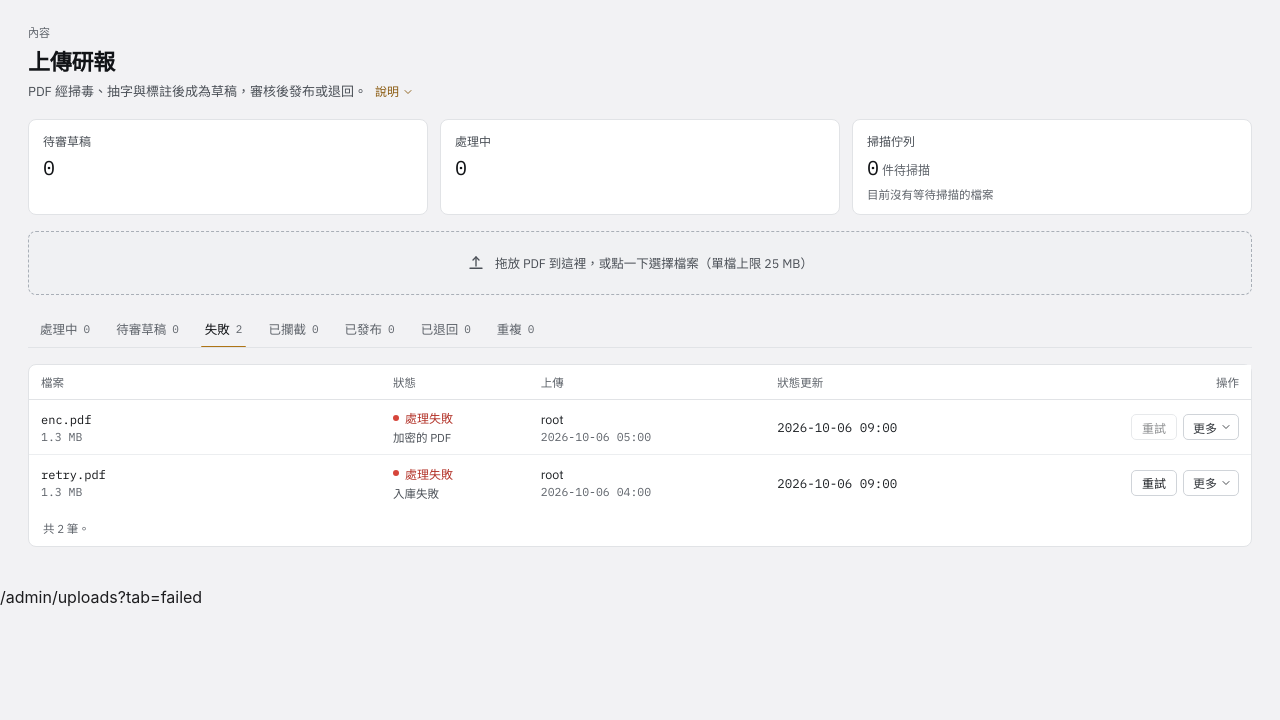
Test case: 失敗的列動作：可重試類主要動作是重試（要確認）；不可重試類停用並在 title 說明原因
expect the button "重試" in the row of "加密的 PDF" is disabled: met, box [1131,414,1177,440]
Click the button with aria-label "enc.pdf 的更多操作": [1211, 427] box [1183,414,1239,440]
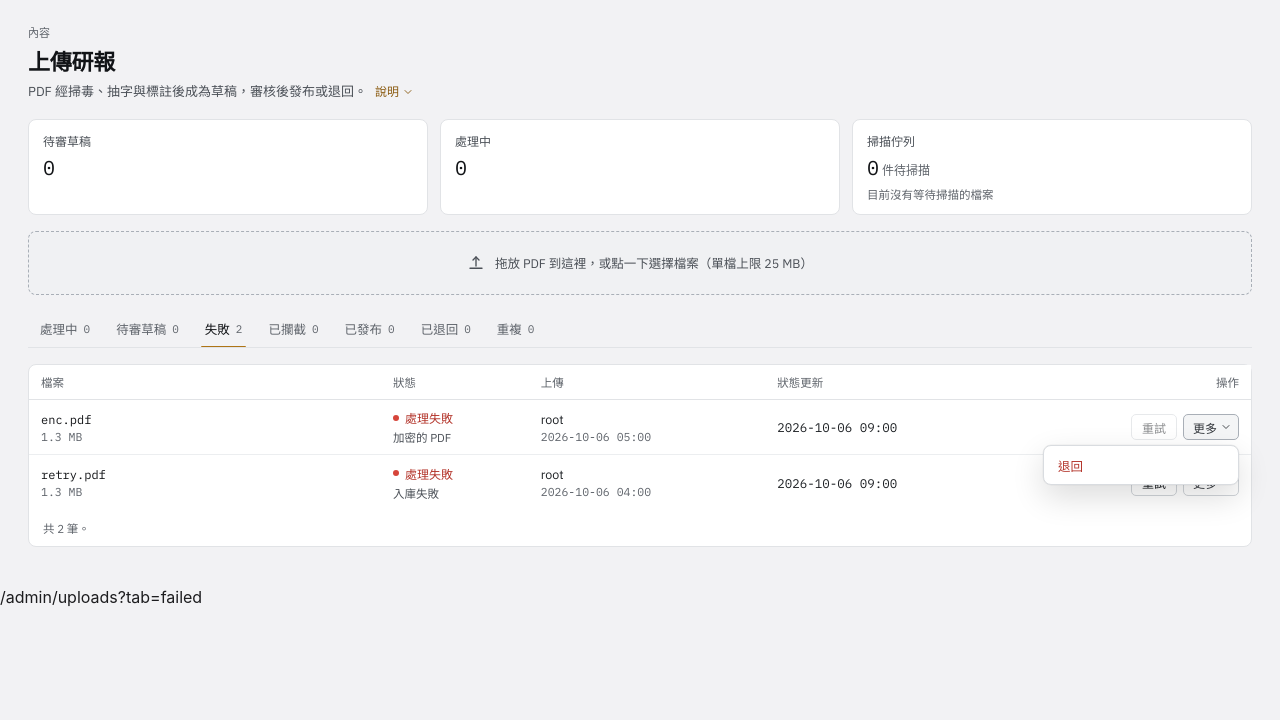
expect the menu item "退回" is enabled: met, box [1048,450,1234,480]
Press Escape
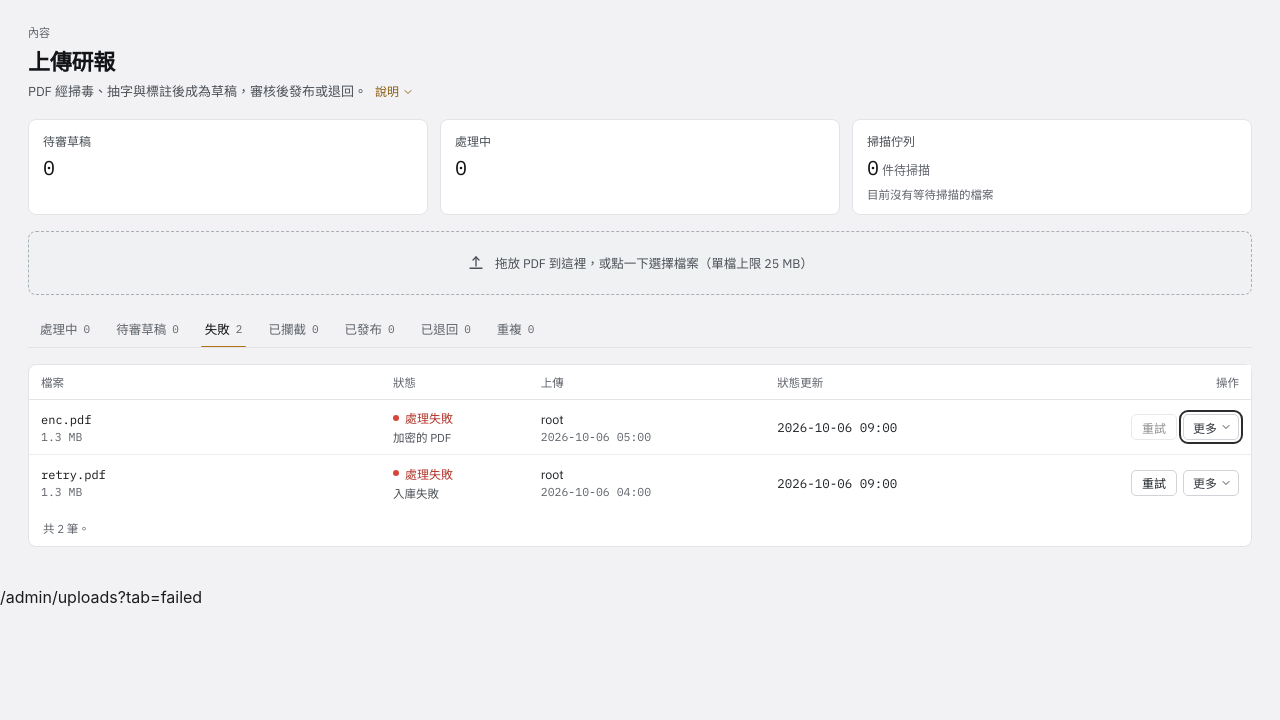
Click the button "重試" in the row of "入庫失敗": [1154, 483] box [1131,470,1177,496]
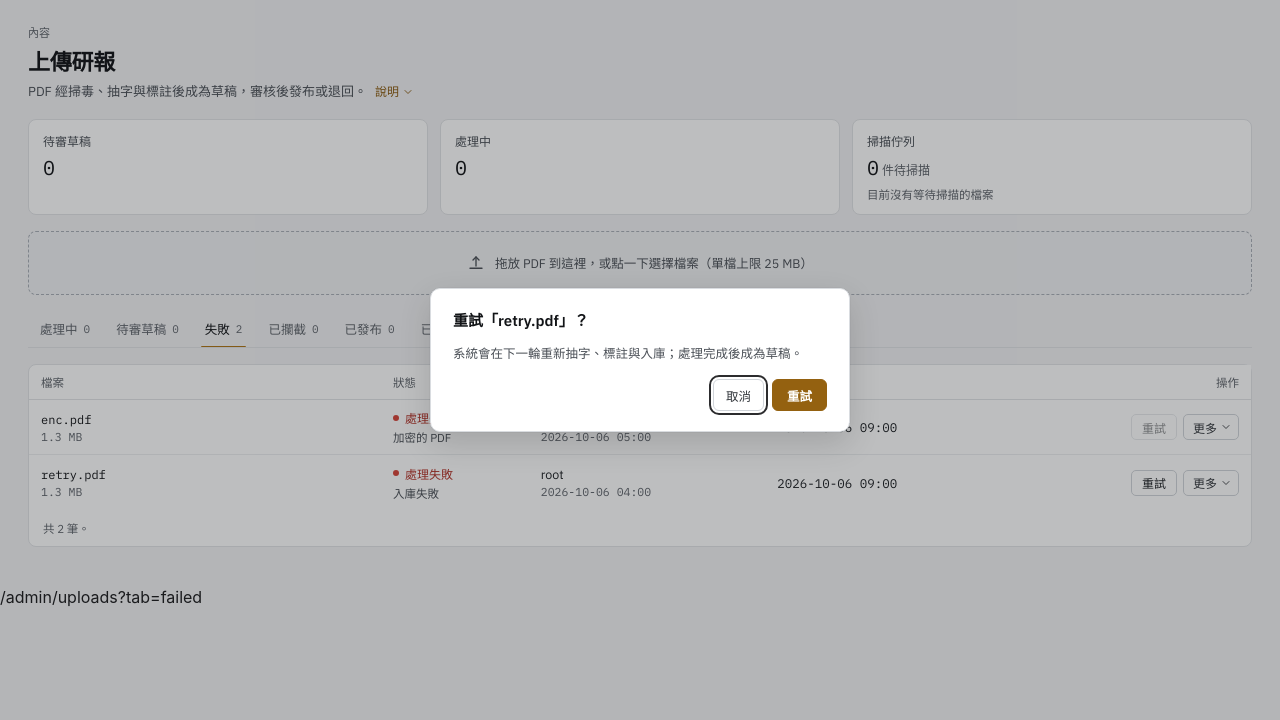
Click the button "重試": [800, 395] box [772,379,827,411]
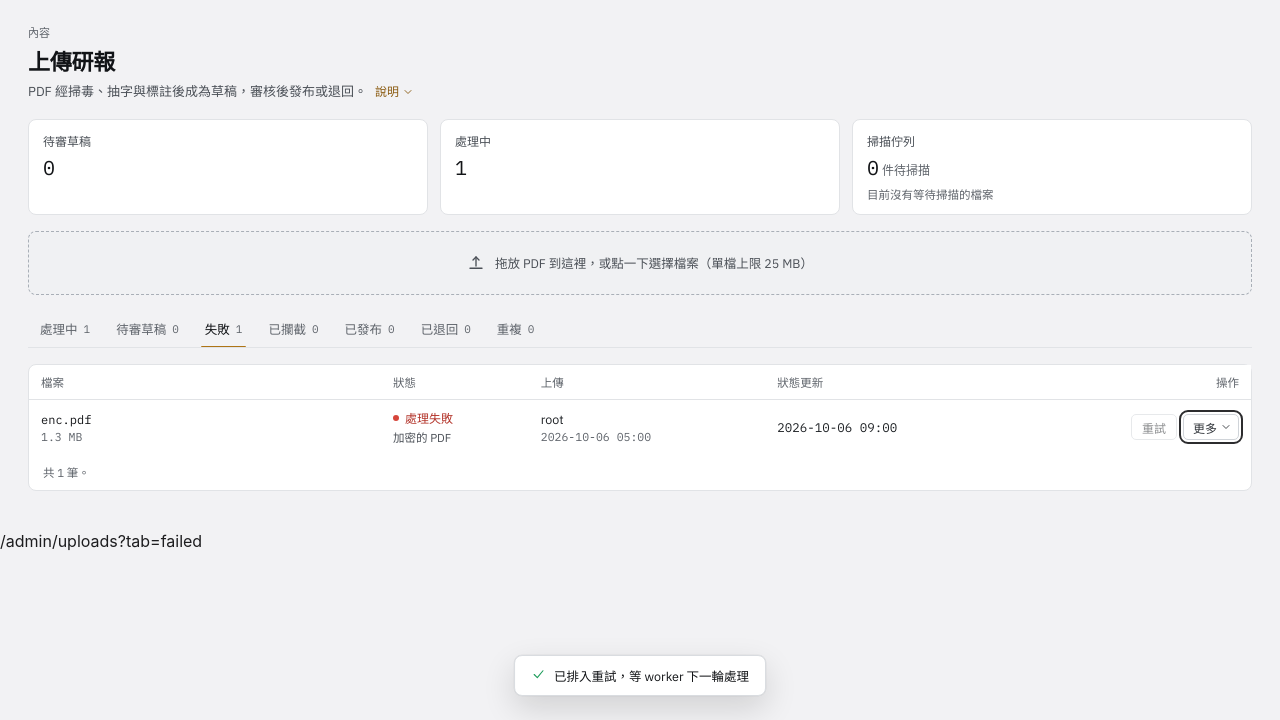
expect the text "已排入重試，等 worker 下一輪處理" is shown: met, box [514,655,766,696]
